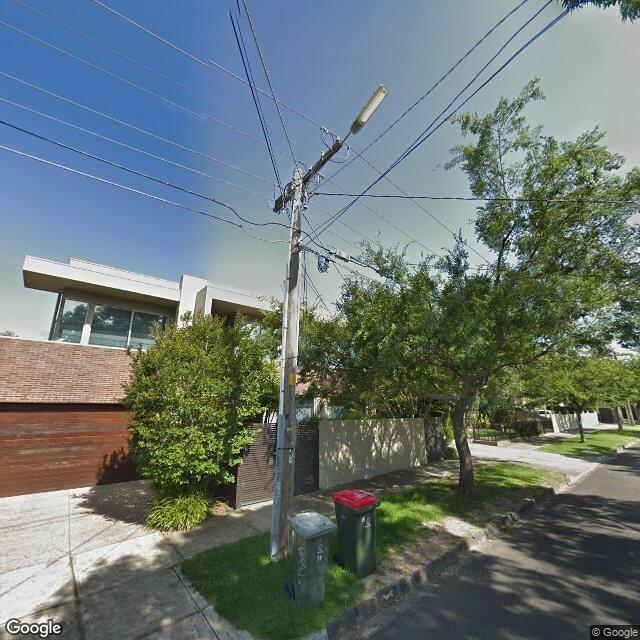crossarm: (275, 140, 342, 213)
streetlight: (341, 86, 388, 146)
timber-pole: (279, 168, 303, 557)
